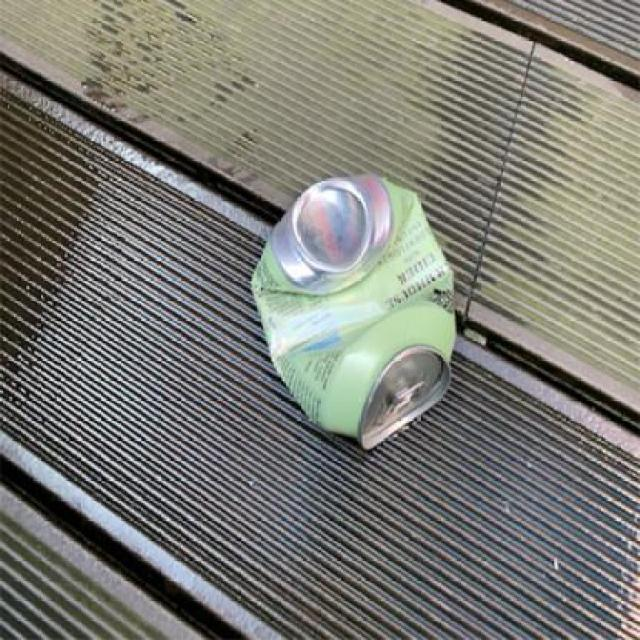Metal: (250, 174, 457, 453)
